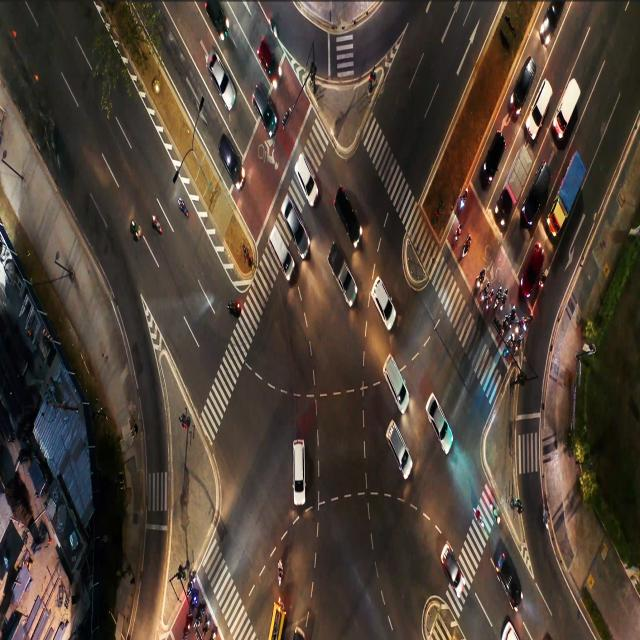motorcycle: (178, 191, 190, 221), (131, 223, 143, 240), (492, 506, 500, 526), (229, 306, 243, 316), (205, 614, 211, 637), (474, 513, 485, 525), (154, 221, 164, 234), (276, 562, 282, 583), (192, 586, 198, 607), (542, 507, 549, 524), (465, 238, 472, 252), (455, 224, 461, 240), (191, 572, 195, 595), (199, 605, 204, 622), (480, 270, 486, 284), (508, 332, 512, 353), (462, 190, 466, 208), (482, 288, 488, 300), (526, 311, 530, 329), (511, 306, 516, 320), (490, 291, 494, 307), (505, 284, 508, 304), (503, 317, 507, 330), (543, 270, 546, 287), (497, 286, 500, 302), (518, 334, 522, 346), (187, 620, 189, 640)
other: (563, 163, 575, 216), (513, 160, 525, 198), (564, 89, 576, 122)
truck: (332, 260, 352, 290), (343, 209, 358, 239), (375, 282, 390, 310), (504, 564, 517, 594), (262, 54, 278, 77), (386, 368, 402, 389), (285, 205, 299, 229), (217, 55, 226, 92), (533, 173, 543, 206), (520, 67, 533, 92), (390, 435, 404, 457), (255, 97, 270, 117), (272, 235, 286, 256), (535, 96, 547, 120), (449, 554, 459, 582), (223, 147, 237, 166), (432, 402, 443, 426), (292, 452, 303, 476), (302, 172, 312, 197), (491, 141, 498, 172), (532, 255, 541, 277), (212, 8, 222, 24)
